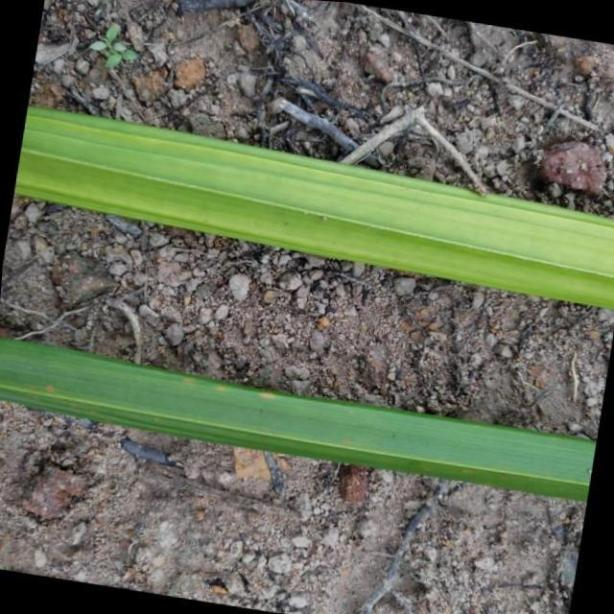nitrogen: (12, 104, 614, 308), (0, 335, 591, 509)
